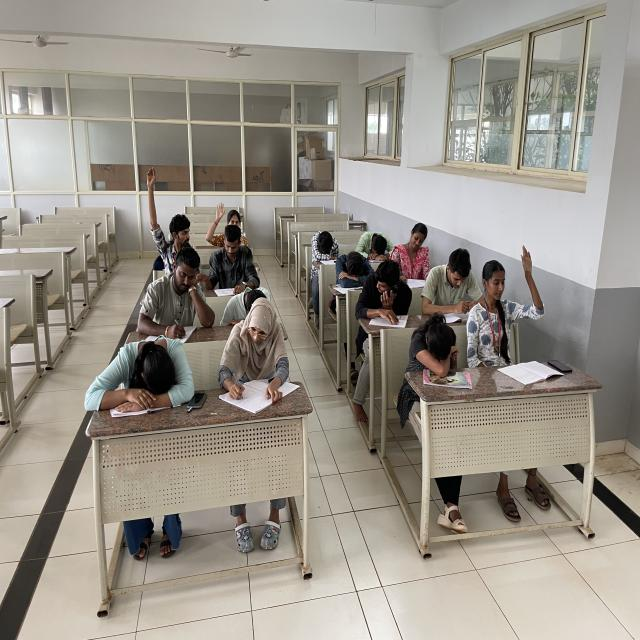Hand Rising: (464, 240, 546, 380), (142, 160, 199, 256), (206, 199, 248, 243)
Reading: (419, 245, 478, 324), (208, 222, 257, 297)
Sleeping: (81, 331, 208, 429), (392, 312, 465, 384), (217, 278, 276, 327), (306, 220, 346, 274), (333, 247, 375, 294), (352, 221, 397, 261)
Using Phone: (356, 256, 415, 327)
Writing: (210, 296, 300, 410), (136, 245, 217, 347), (393, 220, 438, 292)
